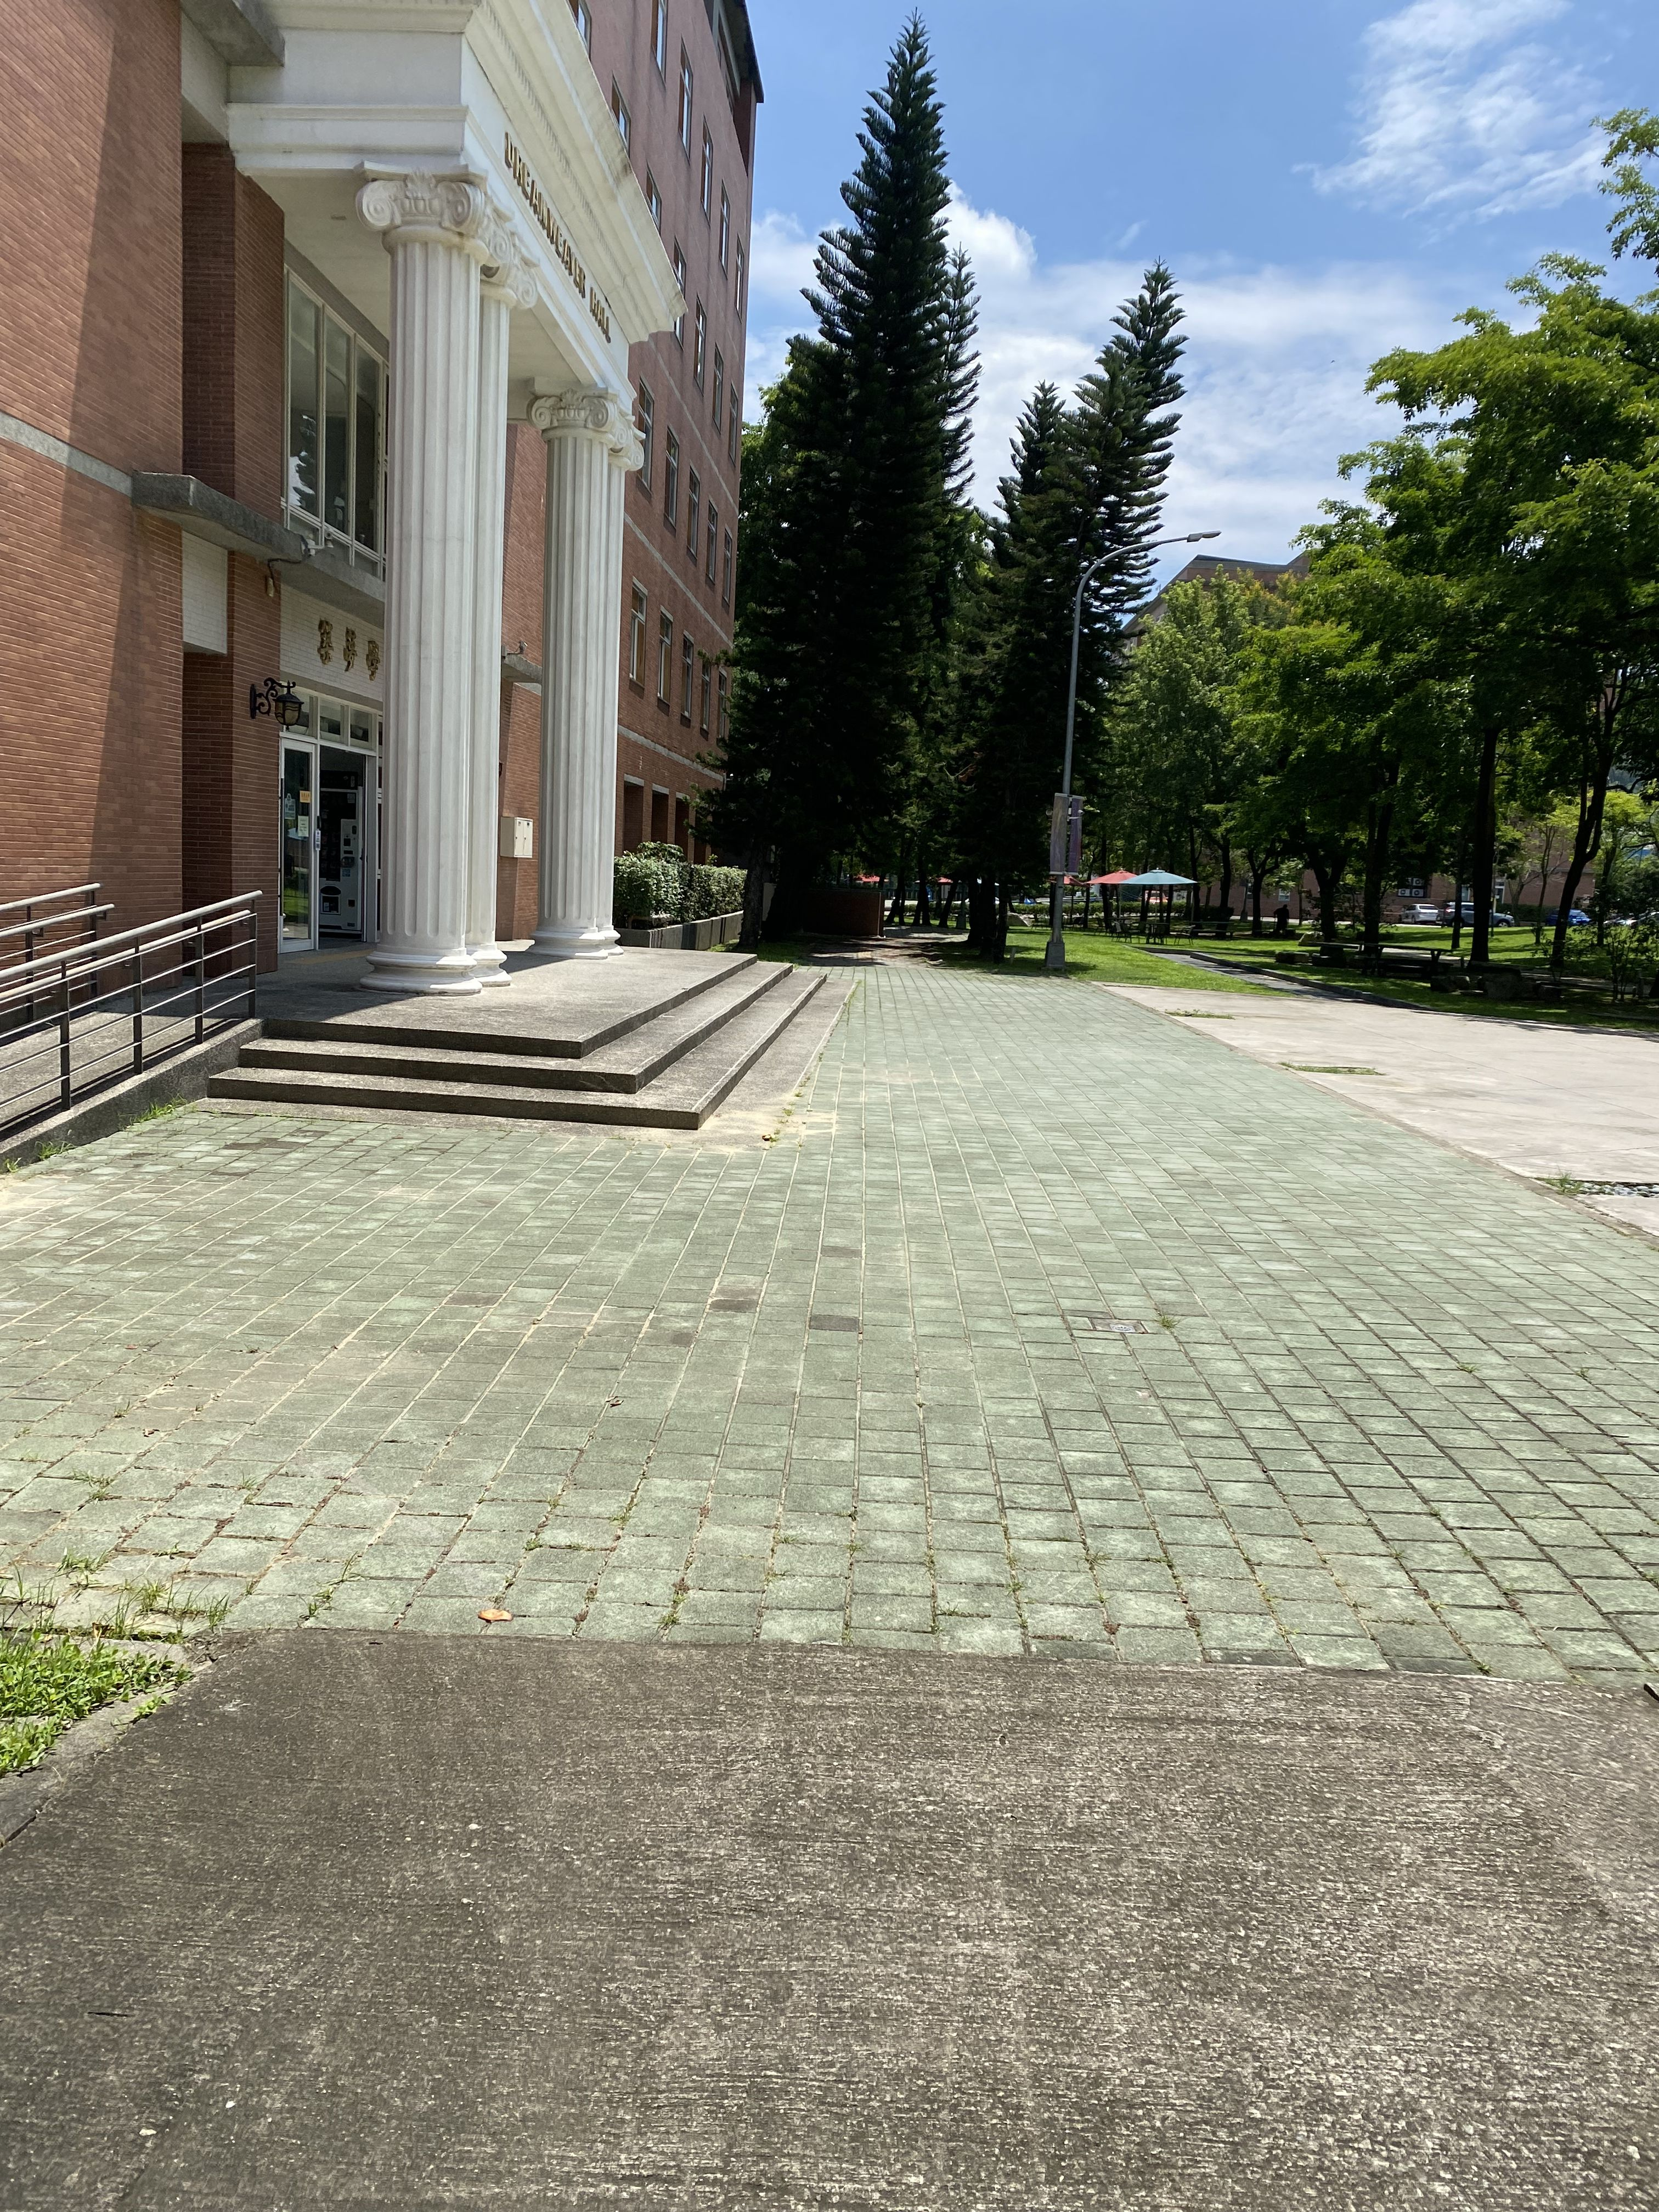0: (0, 1043, 744, 2212)
sidewalk: (664, 892, 1659, 2212)
